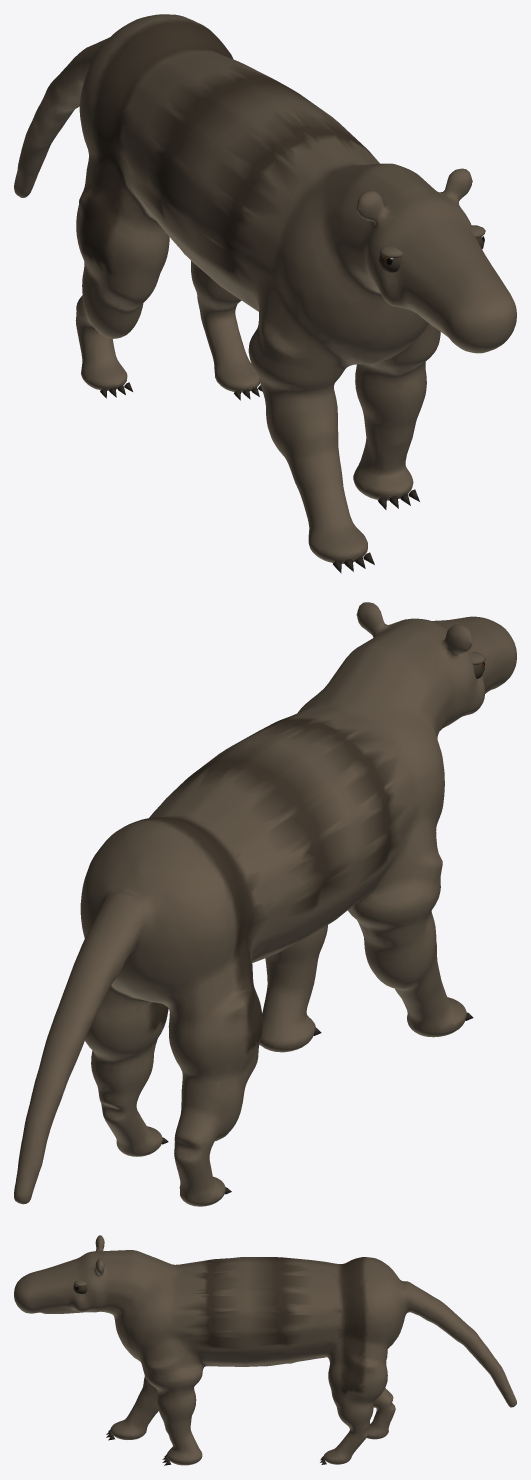
The model's file is WakaleoVanderleueri.fbx.
3 views of the same model, one above another, from view 1: azimuth 30°, elevation 25°; view 2: azimuth 150°, elevation 25°; view 3: azimuth 270°, elevation 25° (orthographic). The views are drawn at different scales.
Parts seen in each view (by area): view 1: WakaleoVanderleueri; view 2: WakaleoVanderleueri; view 3: WakaleoVanderleueri.
Part boxes in pixels (x1,y1,x2,y2): WakaleoVanderleueri: (14, 14, 516, 573); WakaleoVanderleueri: (14, 602, 516, 1206); WakaleoVanderleueri: (14, 1235, 516, 1465).
Size of the model in its own units: 0.3745 by 0.7886 by 1.77.
